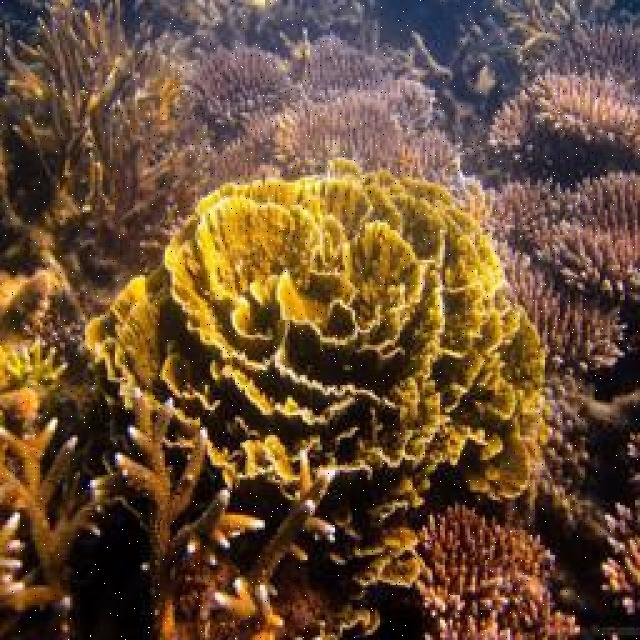reefs: (80, 158, 553, 638), (0, 0, 213, 338), (91, 386, 337, 638), (0, 395, 106, 638), (414, 502, 583, 636), (2, 340, 68, 389)
